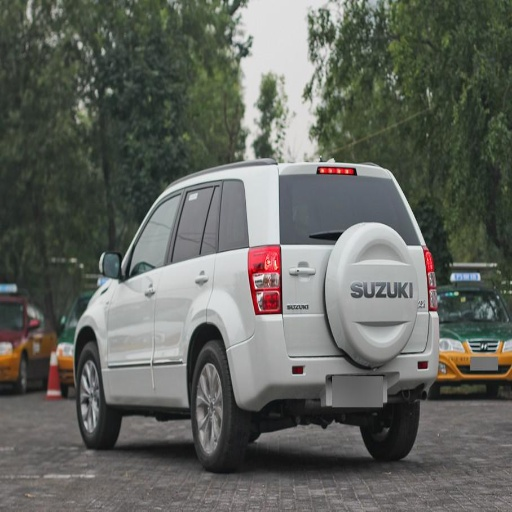back_bumper: (227, 315, 444, 410)
back_glass: (357, 191, 417, 244)
back_left_door: (154, 181, 217, 395)
tailgate: (284, 226, 424, 361)
trunk: (285, 247, 338, 299)
